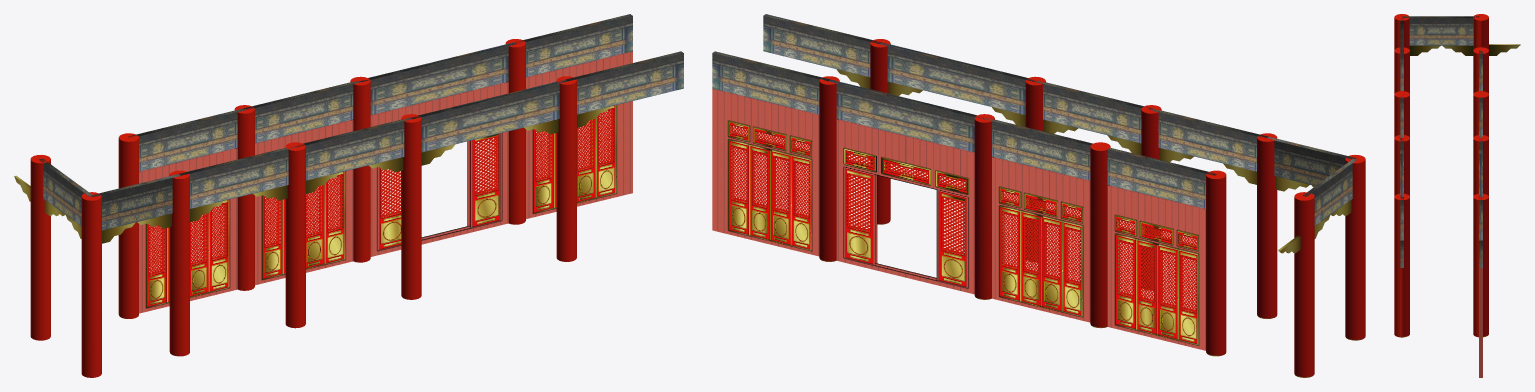
Rendered from cornerwallwalldoorwall.dae.
The picture shows the model from 3 angles, left to right: view 1: azimuth 30°, elevation 25°; view 2: azimuth 150°, elevation 25°; view 3: azimuth 270°, elevation 25°; orthographic projection. The views are drawn at different scales.
Parts seen in each view (by area): view 1: MainNode; view 2: MainNode; view 3: MainNode.
Boxes of the visible parts, x1=… form: MainNode: x1=14, y1=14, x2=683, y2=377; MainNode: x1=712, y1=14, x2=1365, y2=377; MainNode: x1=1394, y1=14, x2=1520, y2=377.
Size of the model in its own units: 16.99 by 4.8 by 4.
1 material, 1 textured.
